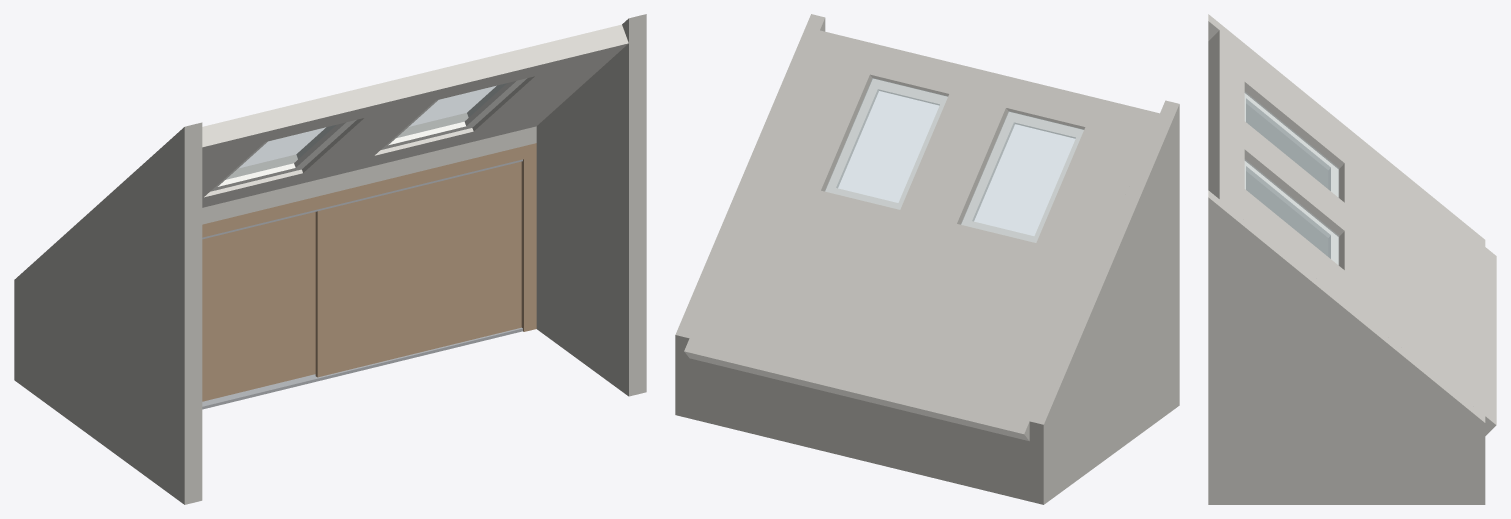
The model's file is loft-sliding-door-storage-east-finchley.glb.
3 views of the same model, side by side, from view 1: azimuth 30°, elevation 25°; view 2: azimuth 150°, elevation 25°; view 3: azimuth 270°, elevation 25° (orthographic). The views are drawn at different scales.
Parts seen in each view (by area): view 1: Room: Wall, left, Door, right (front track), Room: Wall, right, Room: Roof slope, Door, left (back track), Room: Wall over the frame, Head, Stile, right, Room: Skylight glass 2, Room: Skylight glass 1, Bottom track, Room: Skylight frame 1 (+2 smaller); view 2: Room: Roof slope, Room: Wall, left, Room: Back of the eaves, Room: Skylight glass 2, Room: Skylight glass 1, Room: Wall, right, Room: Skylight frame 1, Room: Skylight frame 2; view 3: Room: Wall, right, Room: Roof slope, Room: Wall, left, Room: Skylight glass 1, Room: Skylight glass 2, Room: Skylight frame 1, Room: Skylight frame 2.
Boxes of the visible parts, x1,y1,x2,y2 form: Room: Wall, left: (14, 122, 202, 504); Door, right (front track): (315, 161, 521, 377); Room: Wall, right: (536, 14, 646, 396); Room: Roof slope: (202, 24, 628, 207); Door, left (back track): (202, 212, 315, 401); Room: Wall over the frame: (202, 126, 536, 224); Head: (202, 146, 523, 237); Stile, right: (521, 143, 536, 331); Room: Skylight glass 2: (397, 83, 506, 137); Room: Skylight glass 1: (226, 125, 335, 179); Bottom track: (202, 327, 522, 409); Room: Skylight frame 1: (210, 120, 356, 191); Room: Roof slope: (684, 30, 1159, 441); Room: Wall, left: (1029, 100, 1179, 504); Room: Back of the eaves: (689, 358, 1029, 501); Room: Skylight glass 2: (825, 78, 947, 209); Room: Skylight glass 1: (961, 111, 1083, 242); Room: Wall, right: (675, 14, 825, 418); Room: Skylight frame 1: (961, 111, 1083, 242); Room: Skylight frame 2: (825, 78, 947, 209); Room: Wall, right: (1208, 190, 1485, 504); Room: Roof slope: (1208, 30, 1496, 435); Room: Wall, left: (1208, 14, 1485, 256); Room: Skylight glass 1: (1245, 92, 1338, 196); Room: Skylight glass 2: (1245, 160, 1338, 264); Room: Skylight frame 1: (1244, 93, 1338, 197); Room: Skylight frame 2: (1244, 161, 1338, 264).
Bounding box in the file's own units: 2.6 × 2.03 × 1.73.
